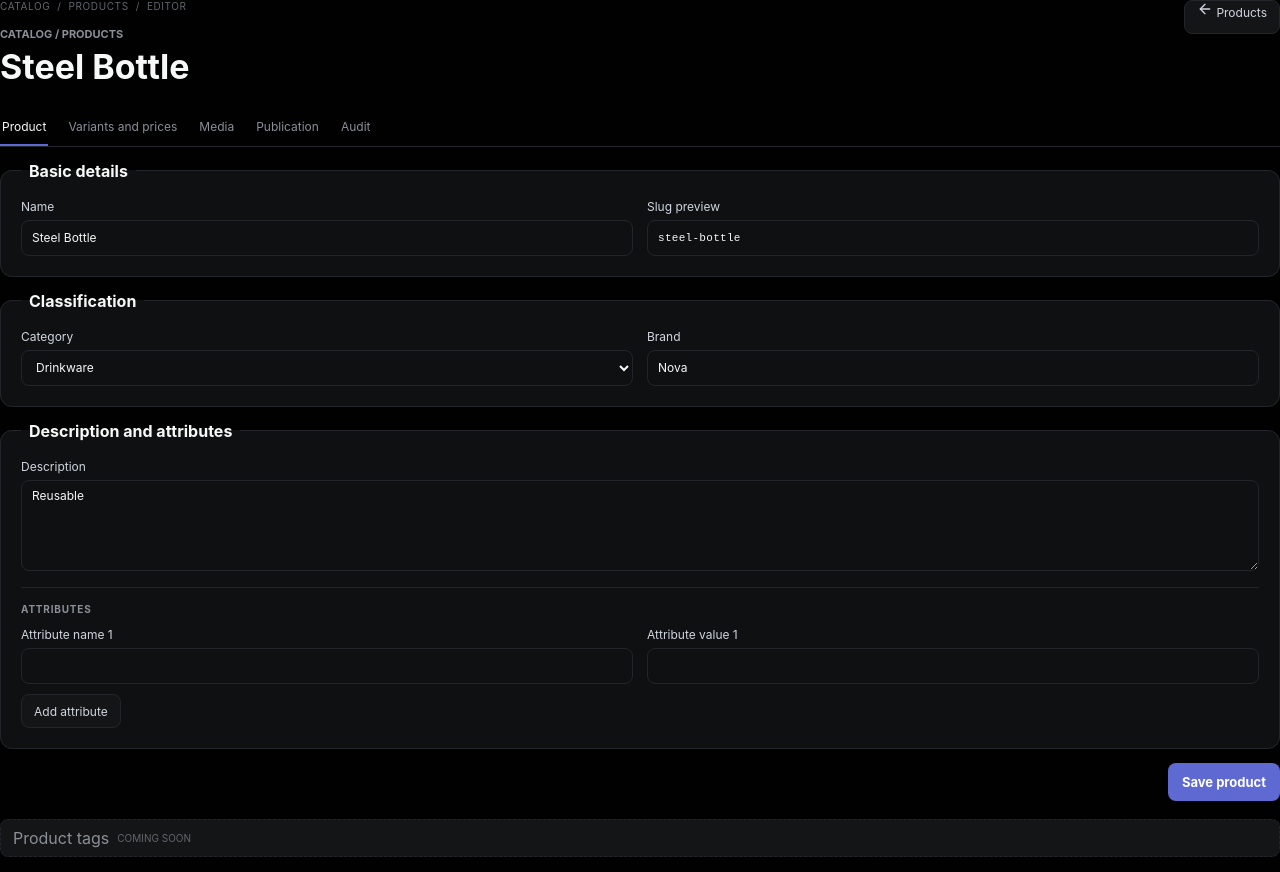
Test case: ProductEditorPage › maps STALE_VERSION without exposing transport details
This screenshot has width=1280, height=872.
Expected: the field showing "Steel Bottle" is shown, top-left (21, 220), bottom-right (633, 256)
Step 1. Click the button "Save product" → x=1224, y=782, box top-left (1168, 763), bottom-right (1279, 801)
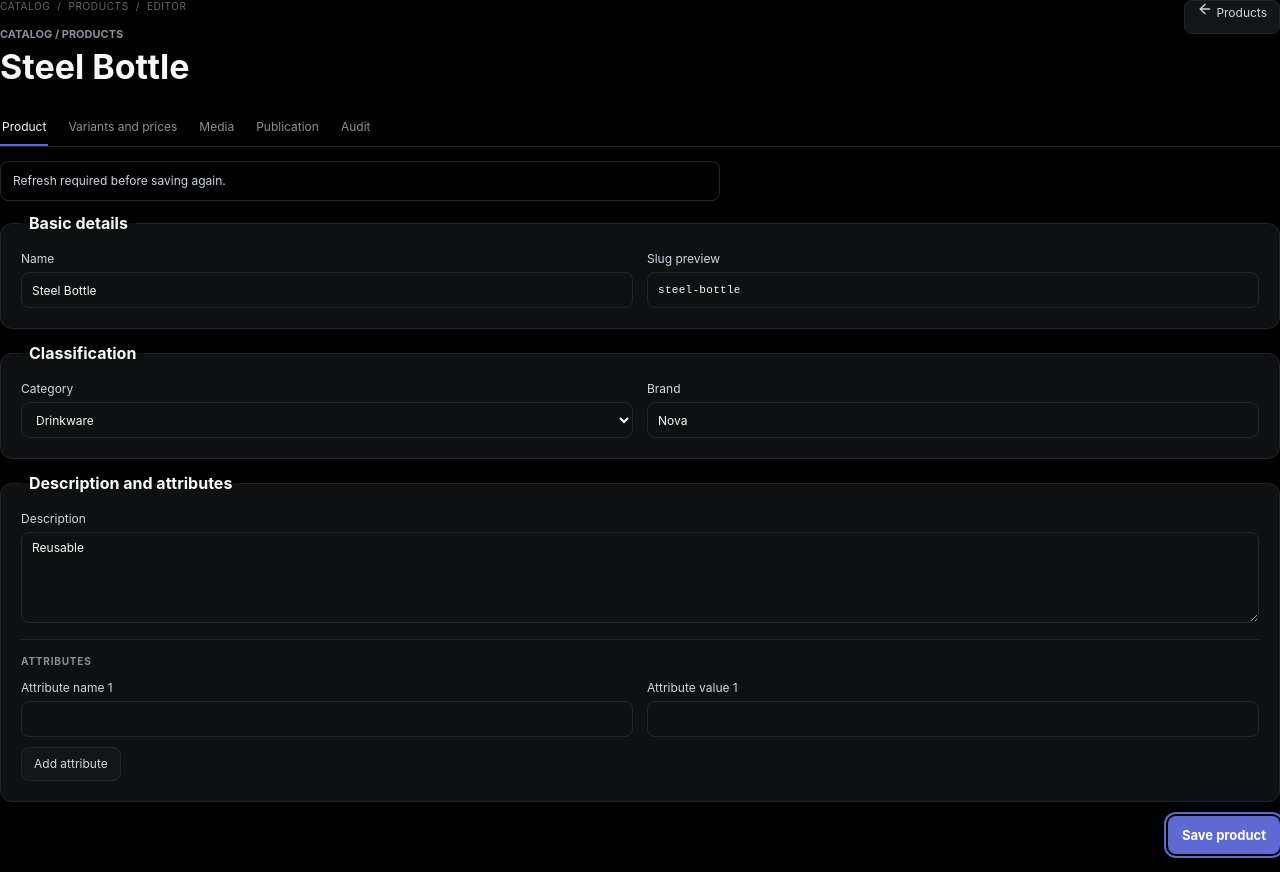
Result: the text "Refresh required before saving again." is shown at top-left (0, 161), bottom-right (720, 201)
